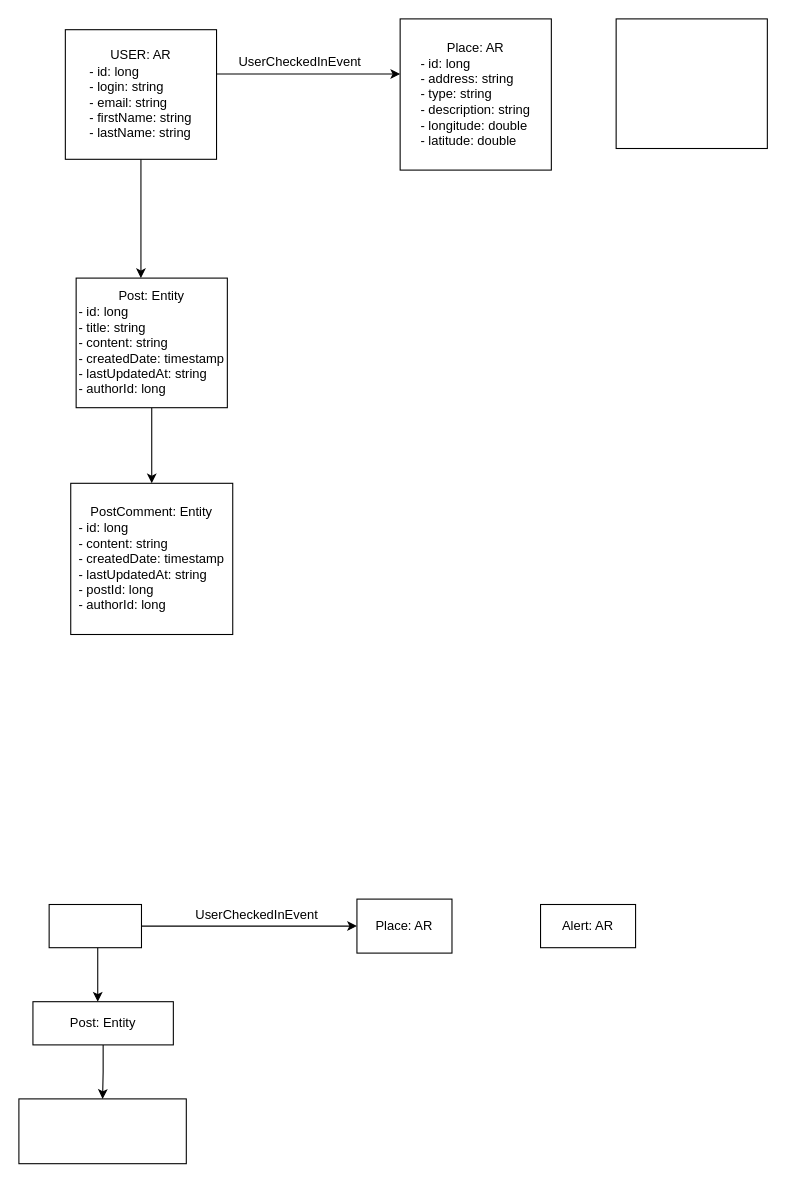
This 786x1183 diagram has some shape labels left out. The shapes that lost their labels are listed below. From the top down, each one's centre as x and y in pixels, then its label:
At pixel 691 83: "Alert: AR - id: long - title: string - content: string".
At pixel 94 925: "USER: AR".
At pixel 102 1131: "PostComment: Entity".
